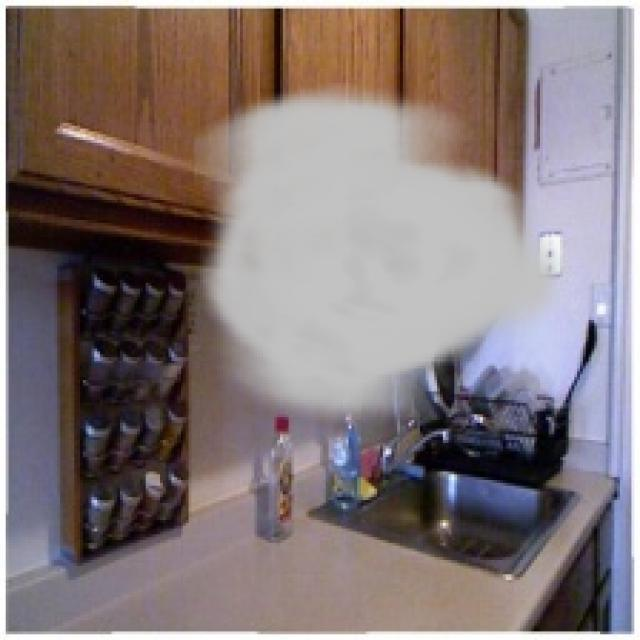Smoke: (194, 82, 572, 432)
